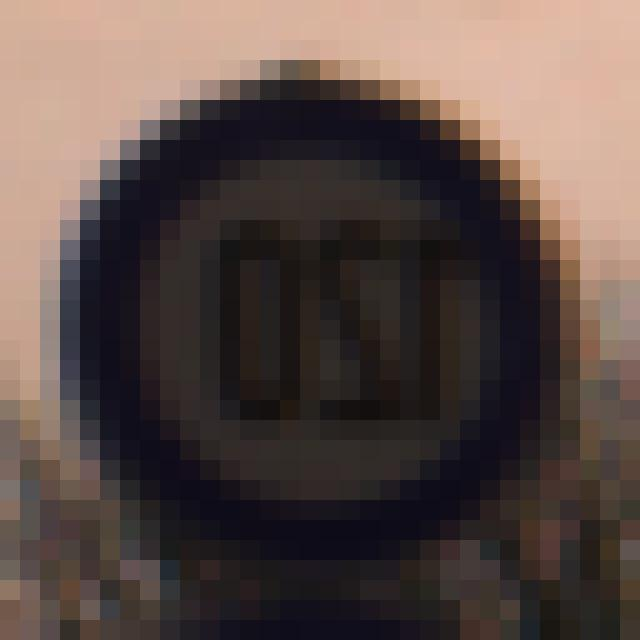SPEED LIMIT 120: (70, 91, 564, 532)
